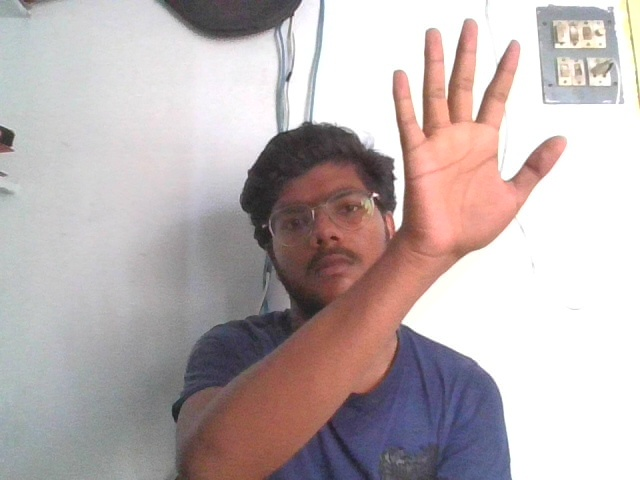Hello: (391, 11, 569, 258)
